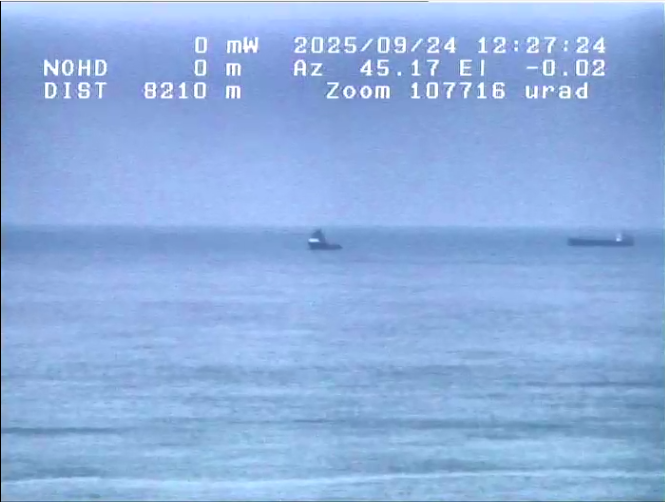OFFSHORE_SUPPLY_VESSEL: (295, 220, 346, 258)
TANKER: (555, 220, 659, 264)
